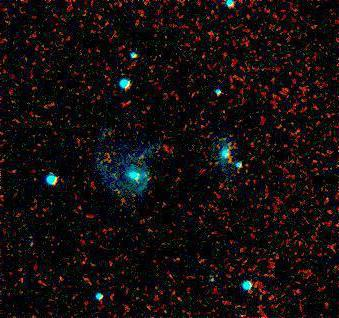star: (217, 148, 247, 178)
